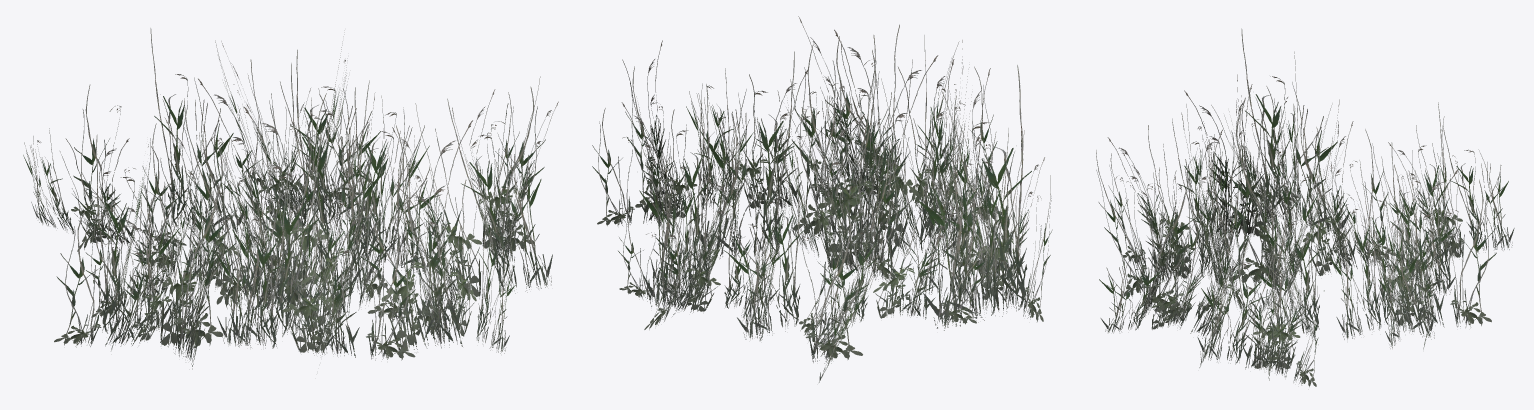
The model's file is proc_forest_grass01.FBX.
The picture shows the model from 3 angles, left to right: view 1: azimuth 30°, elevation 25°; view 2: azimuth 150°, elevation 25°; view 3: azimuth 270°, elevation 25°; orthographic projection. The views are drawn at different scales.
Visible parts, largest first — view 1: proc_forest_grass01; view 2: proc_forest_grass01; view 3: proc_forest_grass01.
Part boxes in pixels (x1,y1,x2,y2): proc_forest_grass01: (23, 28, 558, 369); proc_forest_grass01: (592, 16, 1052, 382); proc_forest_grass01: (1096, 28, 1514, 386).
Size of the model in its own units: 2.59 by 2.47 by 1.36.
Materials: 1 (1 with a texture image).
